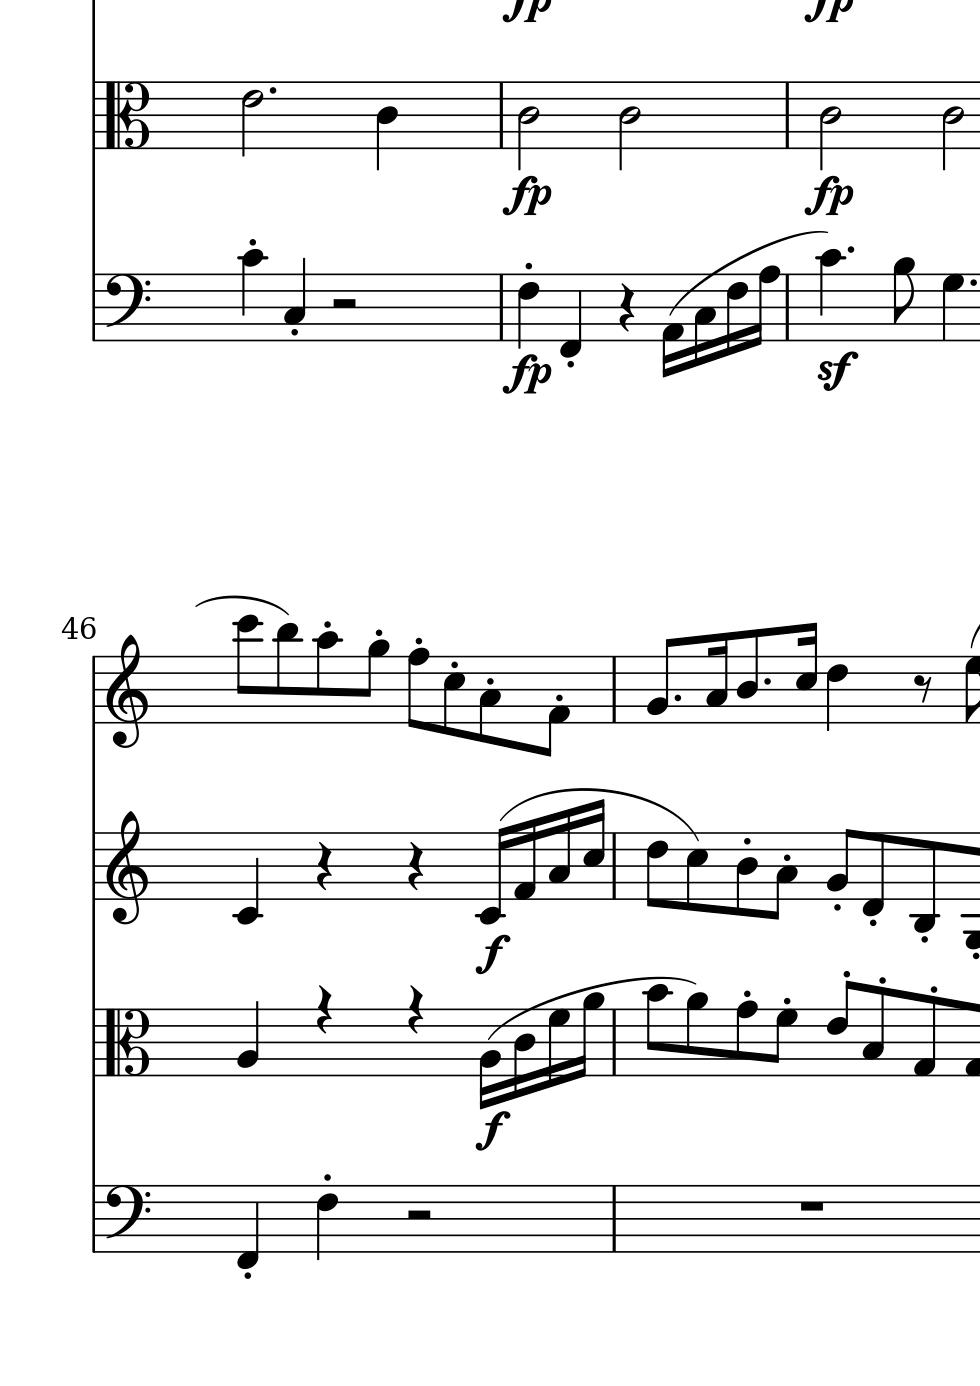16_-2: (475, 825, 509, 925)
16_1: (659, 273, 685, 378), (511, 817, 538, 901)
16_2: (476, 1007, 501, 1107)
16_3: (692, 271, 716, 368), (704, 631, 729, 725), (546, 807, 571, 901)
16_4: (510, 1006, 536, 1101)
16_5: (793, 621, 818, 726), (582, 797, 606, 902)
16_6: (723, 271, 748, 355)
16_7: (545, 1006, 570, 1089)
16_8: (750, 265, 780, 349)
16_9: (573, 990, 605, 1082)
2_4: (818, 78, 844, 171), (939, 78, 965, 171), (515, 78, 541, 171), (617, 80, 642, 170)
2_6: (239, 78, 265, 159)
4: (60, 615, 78, 641)
4_-1: (559, 271, 583, 361), (237, 1182, 261, 1271)
4_-2: (234, 828, 261, 927)
4_10: (237, 246, 266, 344), (816, 246, 844, 344)
4_2: (237, 999, 261, 1078)
4_3: (282, 256, 307, 343)
4_4: (374, 80, 399, 170)
4_6: (312, 1183, 339, 1263), (515, 273, 541, 350), (824, 655, 848, 733)
4_7: (939, 271, 965, 343)
6: (78, 615, 97, 641)
8_-1: (859, 831, 886, 920)
8_-3: (909, 832, 938, 935)
8_1: (538, 654, 570, 758), (911, 994, 937, 1078)
8_10: (312, 630, 343, 725), (642, 983, 671, 1078)
8_11: (272, 622, 302, 726)
8_12: (232, 613, 263, 725)
8_2: (644, 636, 677, 725), (823, 827, 856, 901)
8_3: (767, 831, 799, 924), (475, 655, 502, 745), (860, 985, 886, 1078)
8_4: (735, 628, 760, 725), (732, 832, 760, 918)
8_5: (440, 655, 466, 738), (684, 830, 708, 913)
8_6: (824, 979, 855, 1078), (644, 831, 668, 910)
8_7: (768, 1007, 798, 1077)
8_8: (405, 647, 430, 732), (733, 1000, 758, 1078)
8_9: (358, 639, 390, 726), (891, 256, 917, 344), (684, 992, 708, 1078)
Cclef: (103, 1006, 152, 1077), (103, 80, 151, 150)
Fclef: (102, 271, 151, 344), (102, 1183, 150, 1256)
Gclef: (105, 810, 150, 926), (105, 633, 148, 748)
Rests1: (795, 1197, 828, 1216)
Rests2: (329, 295, 360, 314), (403, 1207, 435, 1225)
Rests4: (616, 280, 637, 335), (406, 840, 426, 893), (406, 983, 426, 1036), (314, 840, 334, 892), (314, 984, 334, 1036)
Rests8: (911, 672, 937, 704)
Single_barline: (85, 81, 104, 150), (84, 1008, 103, 1076), (778, 82, 798, 148), (492, 82, 510, 148), (778, 274, 795, 343), (493, 274, 510, 341), (85, 275, 102, 341), (606, 656, 623, 722), (606, 1008, 622, 1077), (86, 832, 102, 900), (606, 1185, 622, 1252), (606, 834, 622, 899), (86, 656, 101, 725), (86, 1186, 101, 1252)
dot: (762, 674, 774, 688), (266, 83, 278, 97), (967, 276, 979, 290), (843, 243, 855, 256), (672, 692, 683, 704)
f: (473, 933, 511, 976), (473, 1109, 510, 1151)
fp: (500, 173, 550, 220), (500, 353, 552, 399), (804, 174, 854, 220)
sf: (817, 350, 856, 393)
